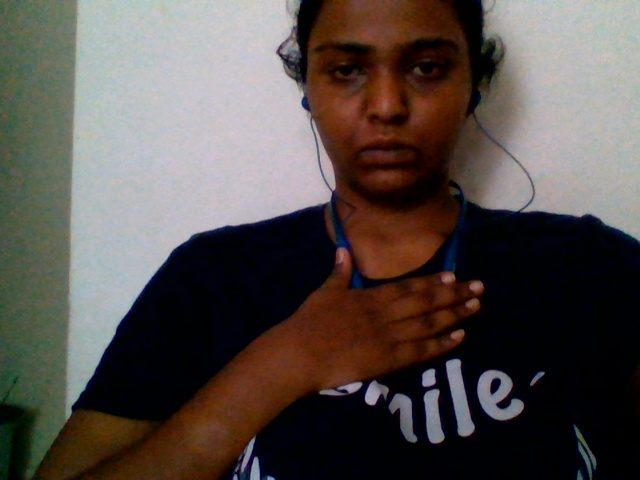Please: (232, 229, 535, 402)
